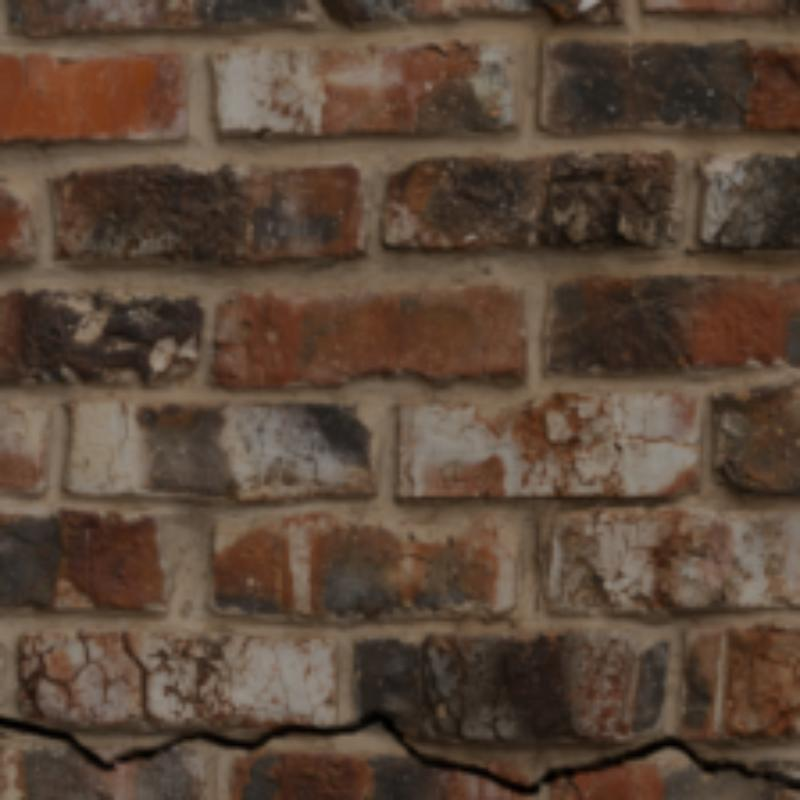crack: (0, 711, 796, 793), (121, 632, 164, 729)
